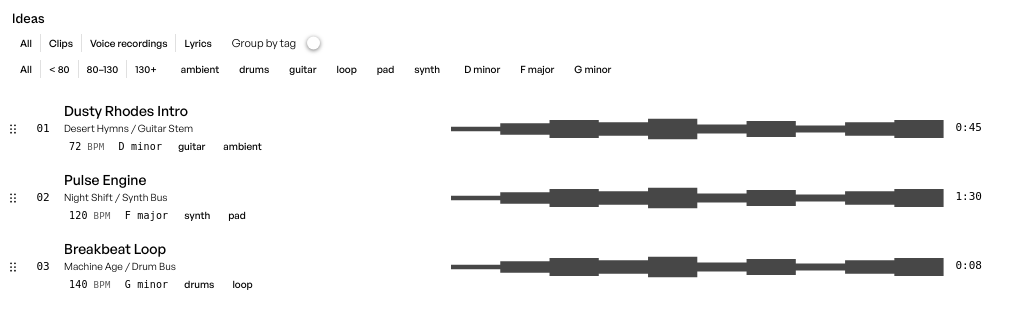
it: IdeasLibrary — label + scale filters › Clear removes active filters
The image size is (1024, 318).
Click the radio button labelled "< 80": [60, 69] box [41,60,79,78]
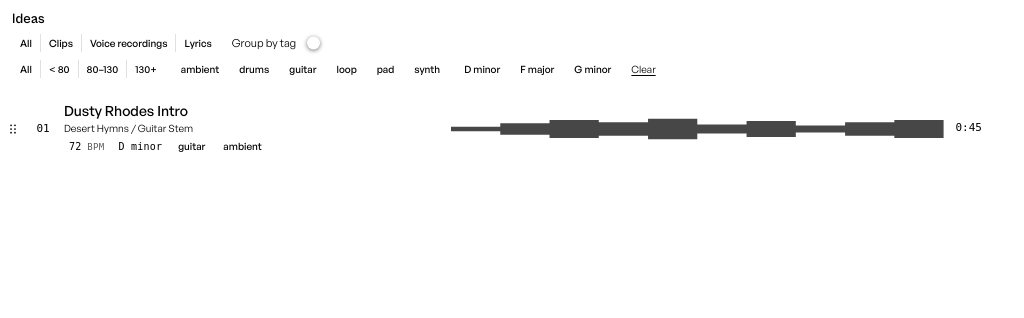
Click the button with aria-label "Clear all filters": [644, 69] box [627,62,660,76]
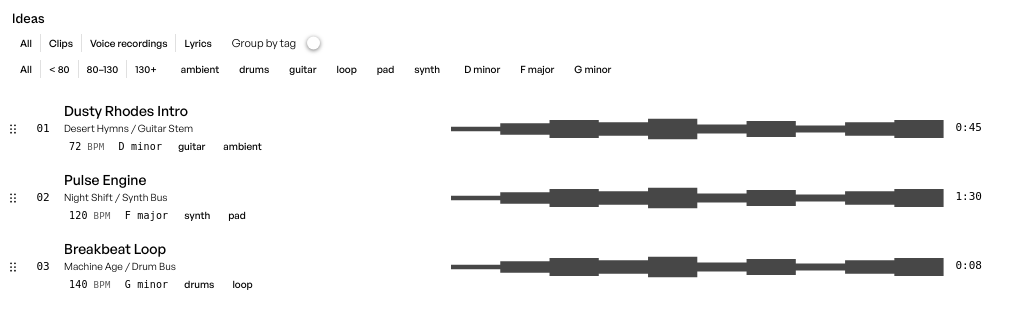
Result: the number of list items with test id "idea-row" is 3 at [0,94,1023,163]; [0,163,1023,232]; [0,232,1023,301]
